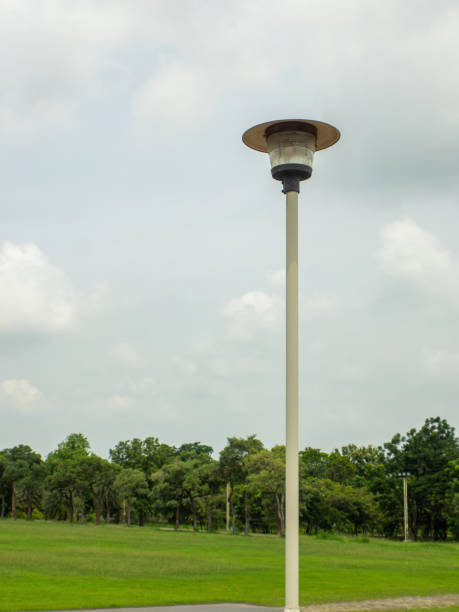light_pole: (281, 191, 302, 612)
